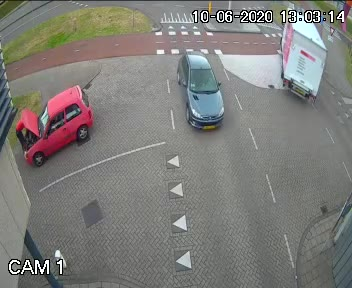car: (20, 88, 98, 164), (174, 46, 231, 141), (271, 13, 327, 101)
